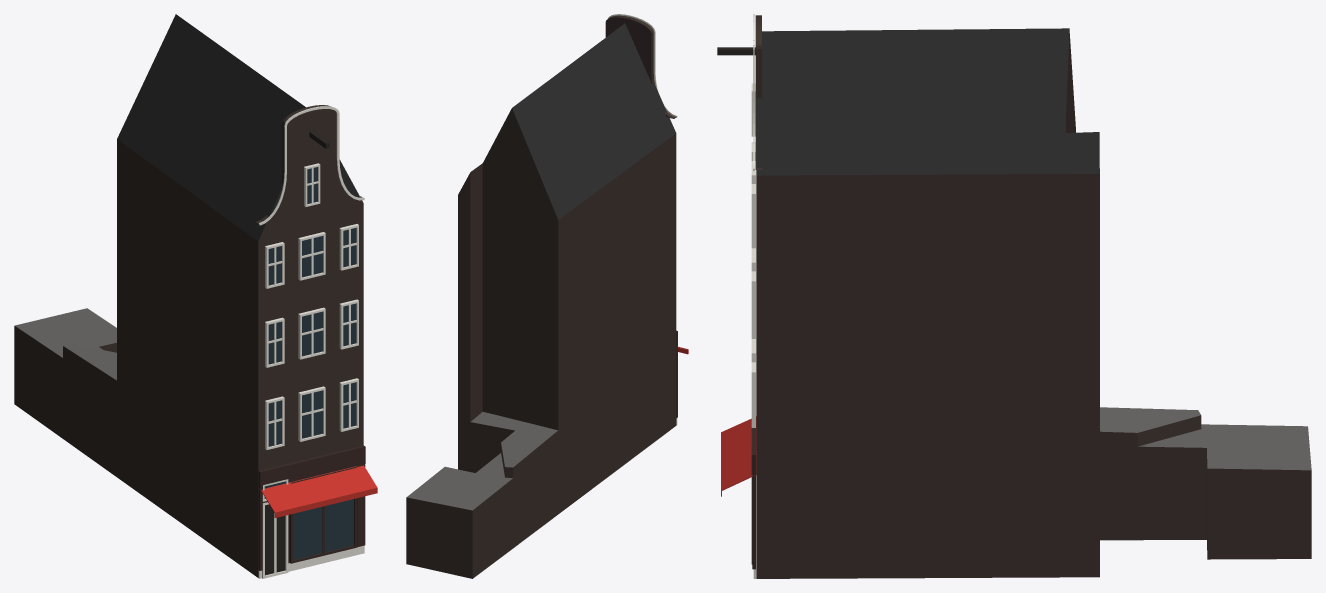
The picture shows the model from 3 angles, left to right: view 1: azimuth 30°, elevation 25°; view 2: azimuth 150°, elevation 25°; view 3: azimuth 270°, elevation 25°; orthographic projection. The views are drawn at different scales.
Parts seen in each view (by area): view 1: spec-0363100012171704; view 2: spec-0363100012171704; view 3: spec-0363100012171704.
Part boxes in pixels (box(x1,y1,x2,y2)): spec-0363100012171704: box(14, 14, 377, 578); spec-0363100012171704: box(406, 14, 688, 578); spec-0363100012171704: box(717, 14, 1311, 578).
Size of the model in its own units: 4.13 by 16.41 by 16.73.
